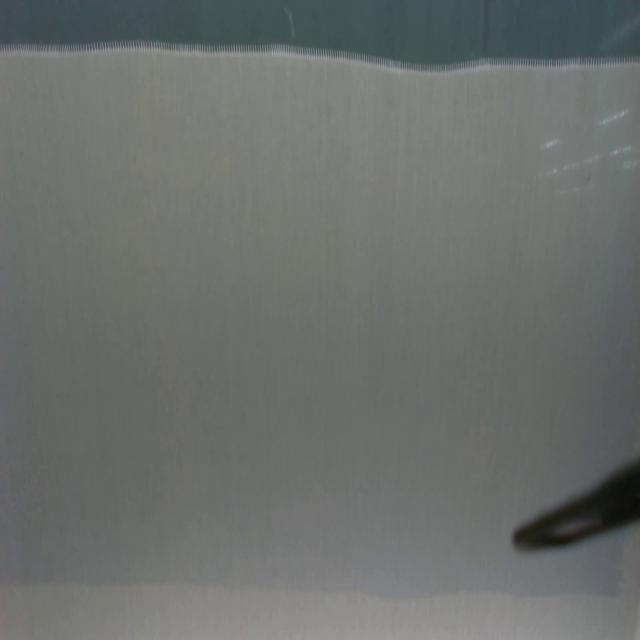color bleeding: (0, 70, 640, 601)
